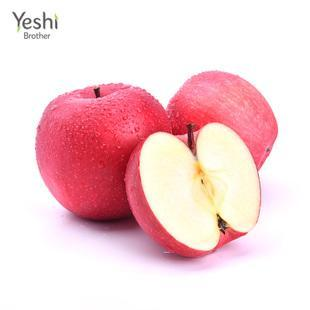apple: (110, 74, 280, 202), (36, 84, 172, 223), (169, 69, 281, 168)
